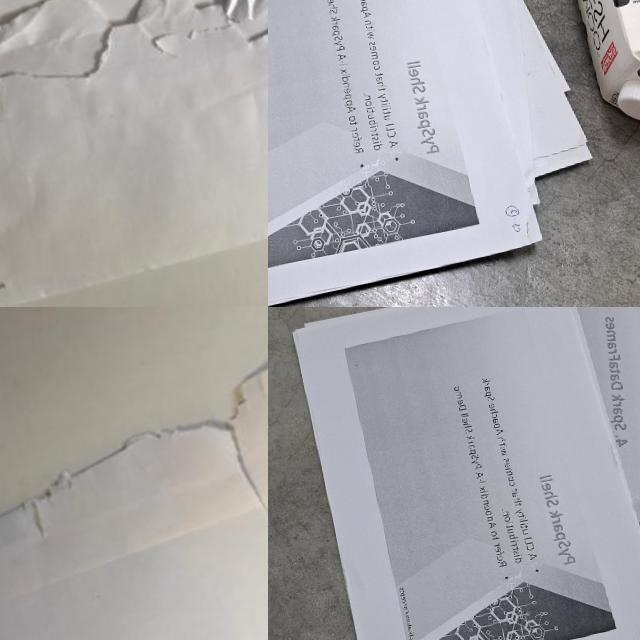caixinha: (530, 0, 640, 161), (615, 75, 640, 127)
papel: (283, 307, 640, 640), (268, 0, 609, 307), (0, 307, 268, 640), (0, 0, 268, 307)
